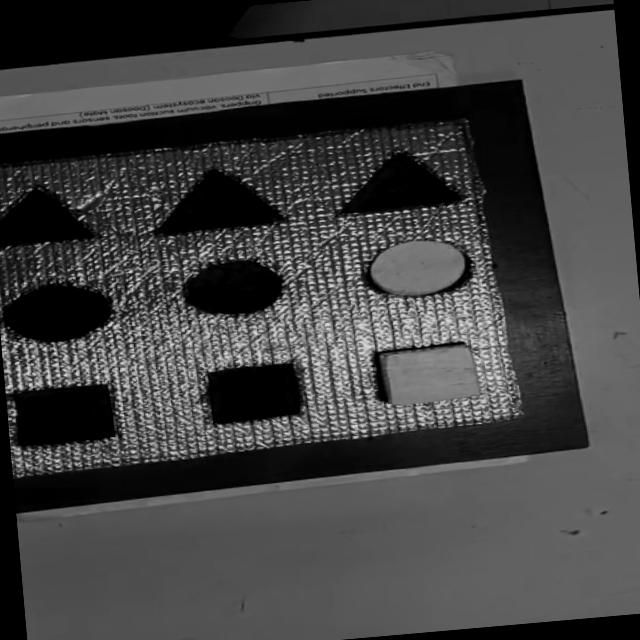mtcircle: (0, 277, 116, 347), (178, 254, 290, 320)
mtcube: (7, 379, 120, 448), (202, 359, 304, 425)
mttriangle: (146, 162, 288, 236), (333, 146, 466, 218), (0, 179, 97, 251)
wb: (0, 112, 530, 479)
ycircle: (363, 233, 474, 301)
ycube: (374, 339, 485, 408)
